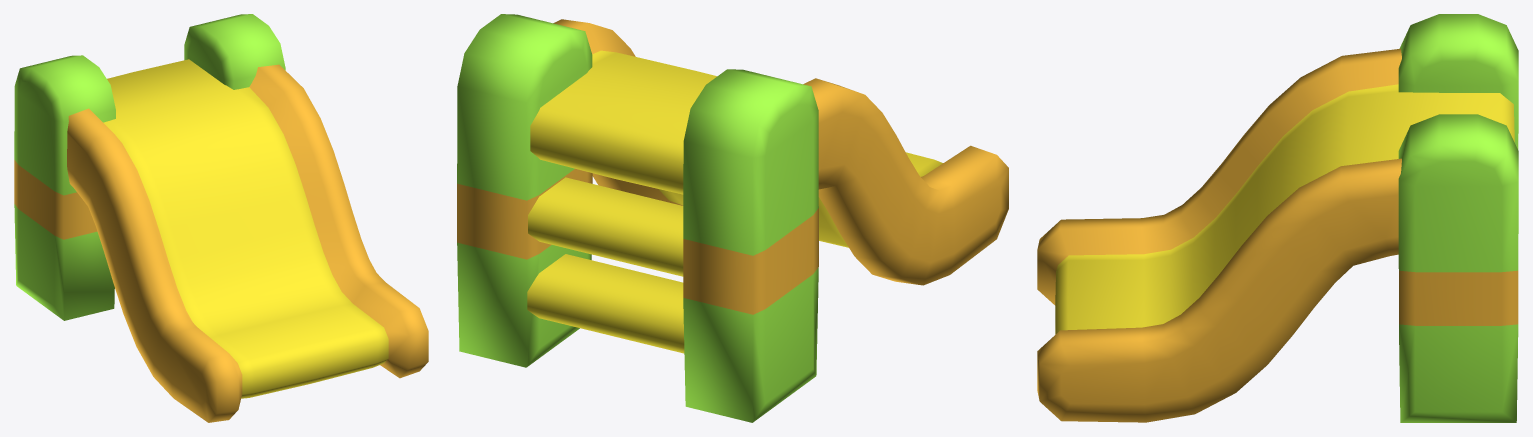
File: toy_01.fbx
3 views of the same model, side by side, from view 1: azimuth 30°, elevation 25°; view 2: azimuth 150°, elevation 25°; view 3: azimuth 270°, elevation 25° (orthographic). The views are drawn at different scales.
Visible parts, largest first — view 1: Cube.007; view 2: Cube.007; view 3: Cube.007.
Part boxes in pixels (bbox=[...]): Cube.007: bbox=[14, 14, 428, 422]; Cube.007: bbox=[457, 14, 1008, 422]; Cube.007: bbox=[1037, 14, 1518, 422].
Size of the model in its own units: 0.7356 by 0.7225 by 1.11.
